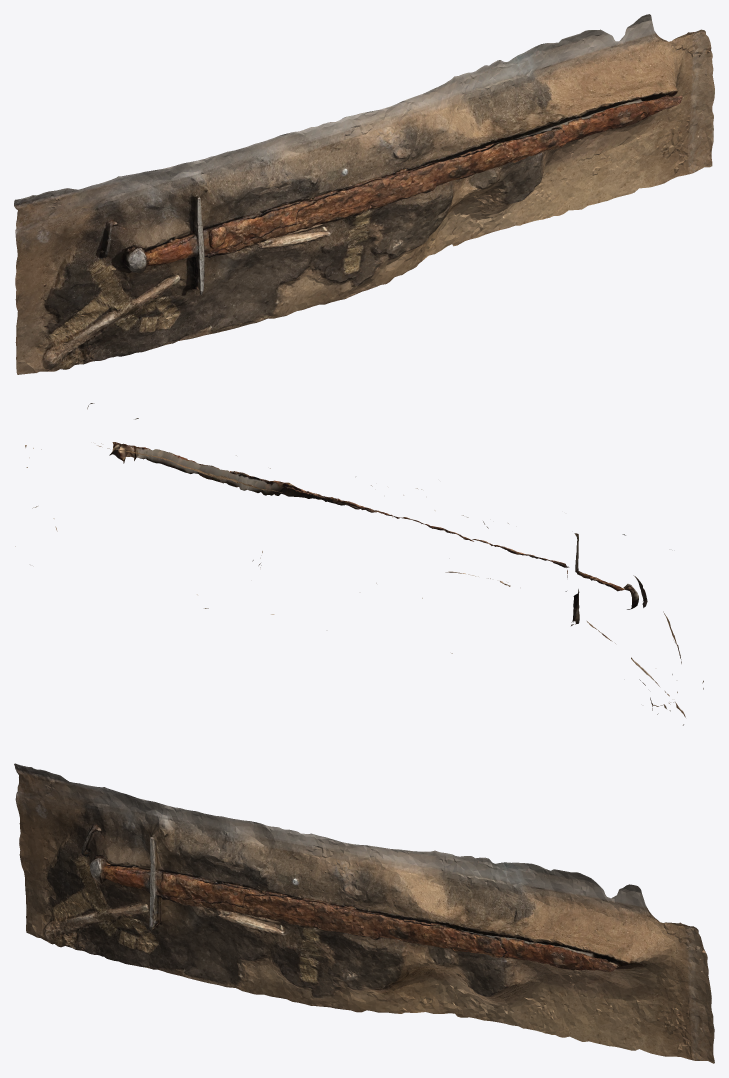
Rendered from rusted_sword.glb.
The picture shows the model from 3 angles, top to bottom: view 1: azimuth 30°, elevation 25°; view 2: azimuth 150°, elevation 25°; view 3: azimuth 330°, elevation 25°; orthographic projection. The views are drawn at different scales.
Parts seen in each view (by area): view 1: default; view 2: default; view 3: default.
Boxes of the visible parts, box(x1,y1,x2,y2) form: default: box(14, 14, 714, 374); default: box(15, 403, 703, 725); default: box(14, 763, 714, 1063).
Bounding box in the file's own units: 41.58 × 11.09 × 4.39.
1 material, 1 textured.
